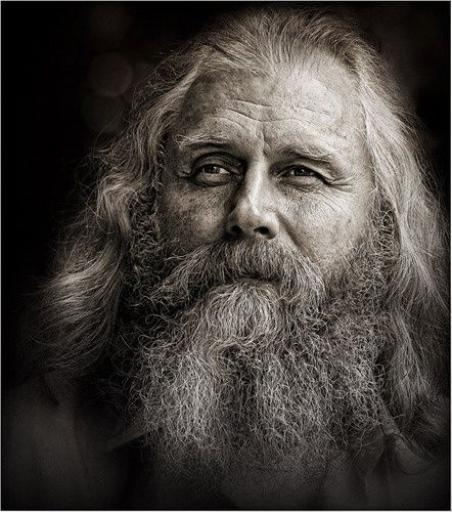left_eye: (279, 164, 329, 184)
right_eye: (188, 161, 236, 183)
